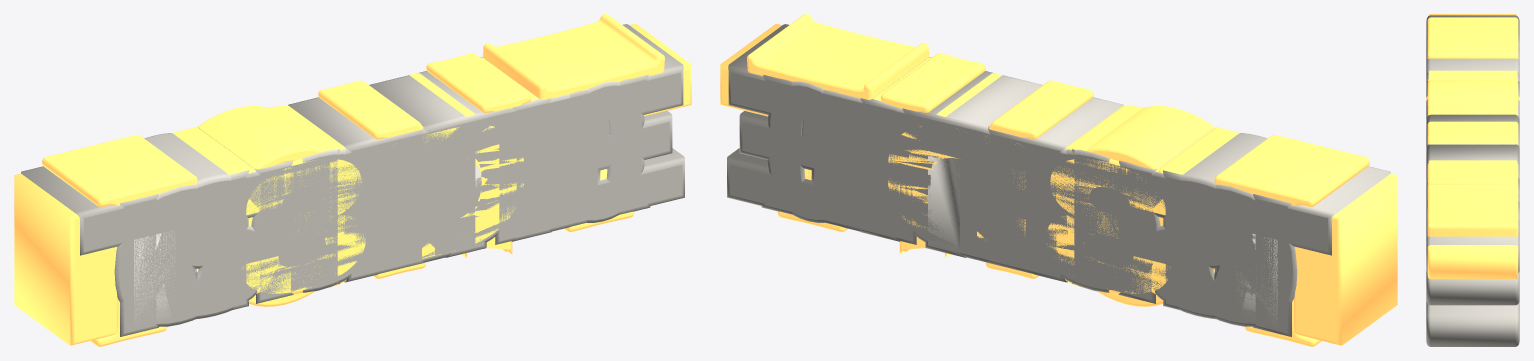
3 renders of one model, left to right at view 1: azimuth 30°, elevation 25°; view 2: azimuth 150°, elevation 25°; view 3: azimuth 270°, elevation 25°, orthographic. The views are drawn at different scales.
Visible parts, largest first — view 1: word_KINETIC, word_FONT_1, word_CODE, word_SHIP, word_TYPE, word_FONT_0, word_IN, word_3D, word_FONT_4, word_FONT_5; view 2: word_KINETIC, word_FONT_1, word_TYPE, word_CODE, word_SHIP, word_FONT_0, word_3D, word_IN, word_FONT_4, word_FONT_5; view 3: word_FONT_1, word_TYPE, word_FONT_0, word_KINETIC, word_FONT_4, word_SHIP, word_FONT_5, word_CODE.
Boxes of the visible parts, <box> form: word_KINETIC: <box>120,57,644,336</box>; word_FONT_1: <box>42,14,664,346</box>; word_CODE: <box>114,74,650,326</box>; word_SHIP: <box>144,94,609,319</box>; word_TYPE: <box>21,24,684,328</box>; word_FONT_0: <box>14,24,691,345</box>; word_IN: <box>291,121,475,291</box>; word_3D: <box>242,125,523,294</box>; word_FONT_4: <box>172,57,538,257</box>; word_FONT_5: <box>198,105,346,287</box>; word_KINETIC: <box>767,57,1291,336</box>; word_FONT_1: <box>747,14,1369,346</box>; word_TYPE: <box>727,24,1390,328</box>; word_CODE: <box>761,74,1297,326</box>; word_SHIP: <box>802,94,1267,319</box>; word_FONT_0: <box>720,24,1397,345</box>; word_3D: <box>888,126,1170,294</box>; word_IN: <box>936,122,1120,291</box>; word_FONT_4: <box>803,57,1239,257</box>; word_FONT_5: <box>1065,105,1213,287</box>; word_FONT_1: <box>1427,17,1518,236</box>; word_TYPE: <box>1426,15,1519,346</box>; word_FONT_0: <box>1427,14,1518,279</box>; word_KINETIC: <box>1426,31,1519,301</box>; word_FONT_4: <box>1427,70,1518,162</box>; word_SHIP: <box>1426,58,1519,202</box>; word_FONT_5: <box>1428,109,1517,115</box>; word_CODE: <box>1426,46,1519,232</box>.
Bounding box in the file's own units: 2.35 × 0.5928 × 0.396.
